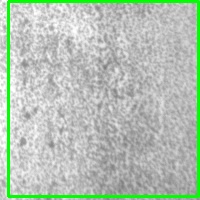pitted_surface: (9, 1, 198, 196)
